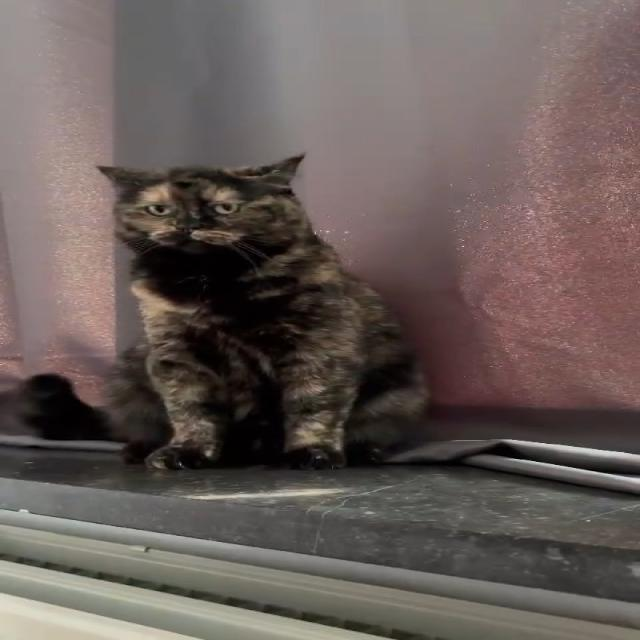authorized: (93, 151, 431, 471)
